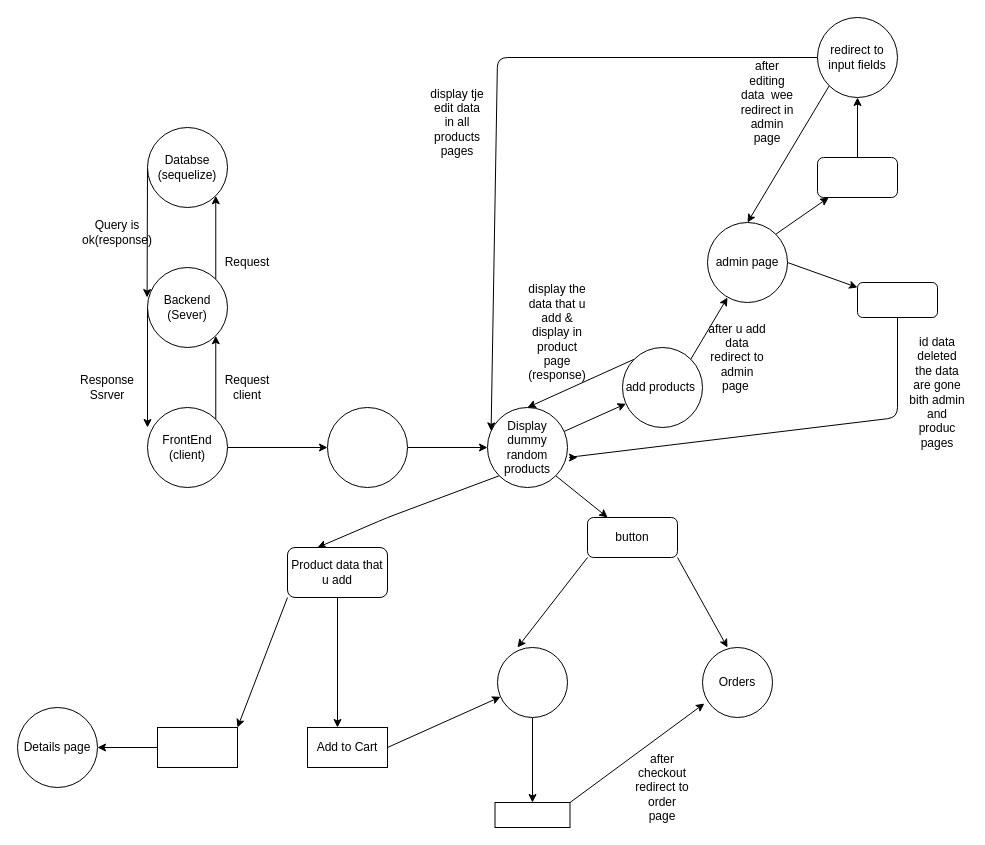
Some shapes in this 985 by 845 pixel diagram are drawn without their labels. The centre of each missing label's shape, as x and y in pixels:
Carts: point 532,682
checkout btn: point 532,815
Delete: point 897,300
Details: point 197,747
Edit: point 857,177
mainpage (front page): point 367,447
